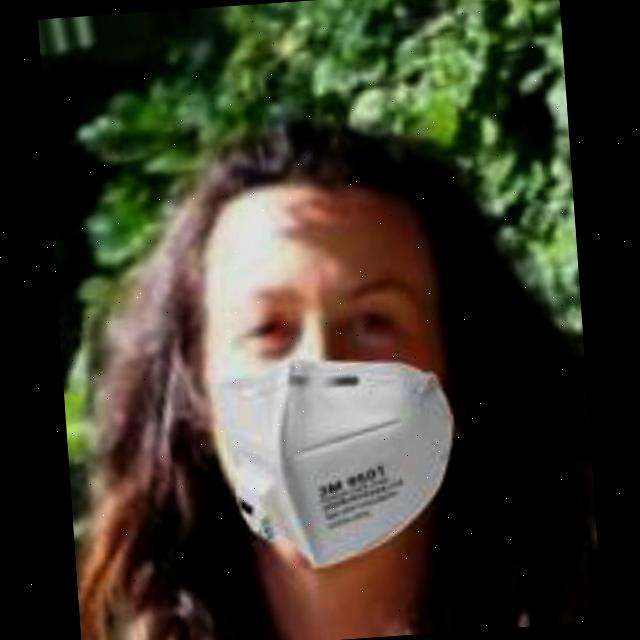suspicion: (55, 135, 509, 595)
